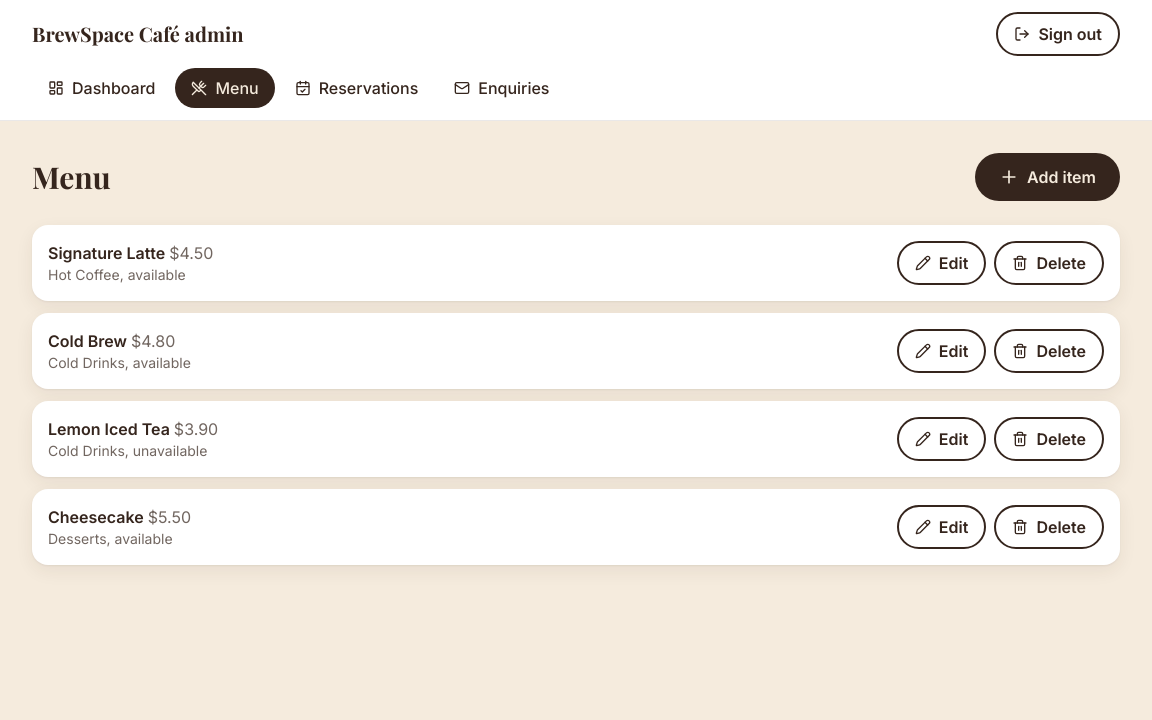
admin menu management › shows an error if delete fails
The image size is (1152, 720).
Click the button with aria-label "Delete Cheesecake". click: (1049, 527)
box: [994,505,1104,549]
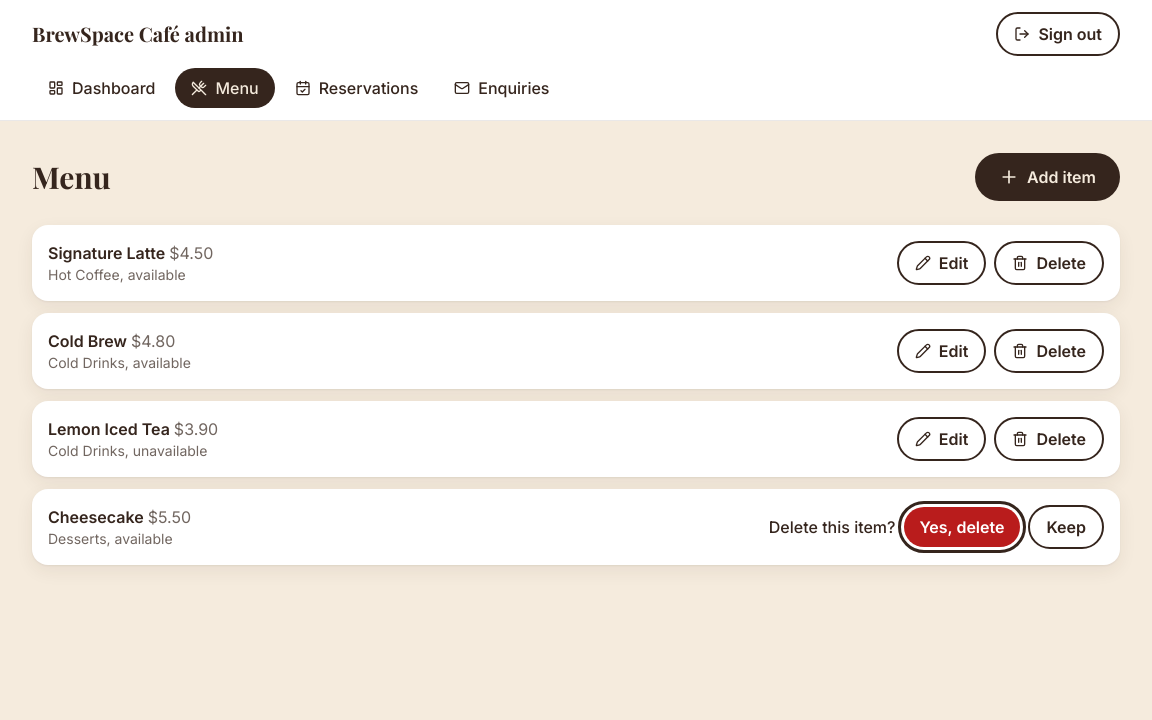
Click the button "Yes, delete". click: (962, 527)
box: [904,507,1020,547]
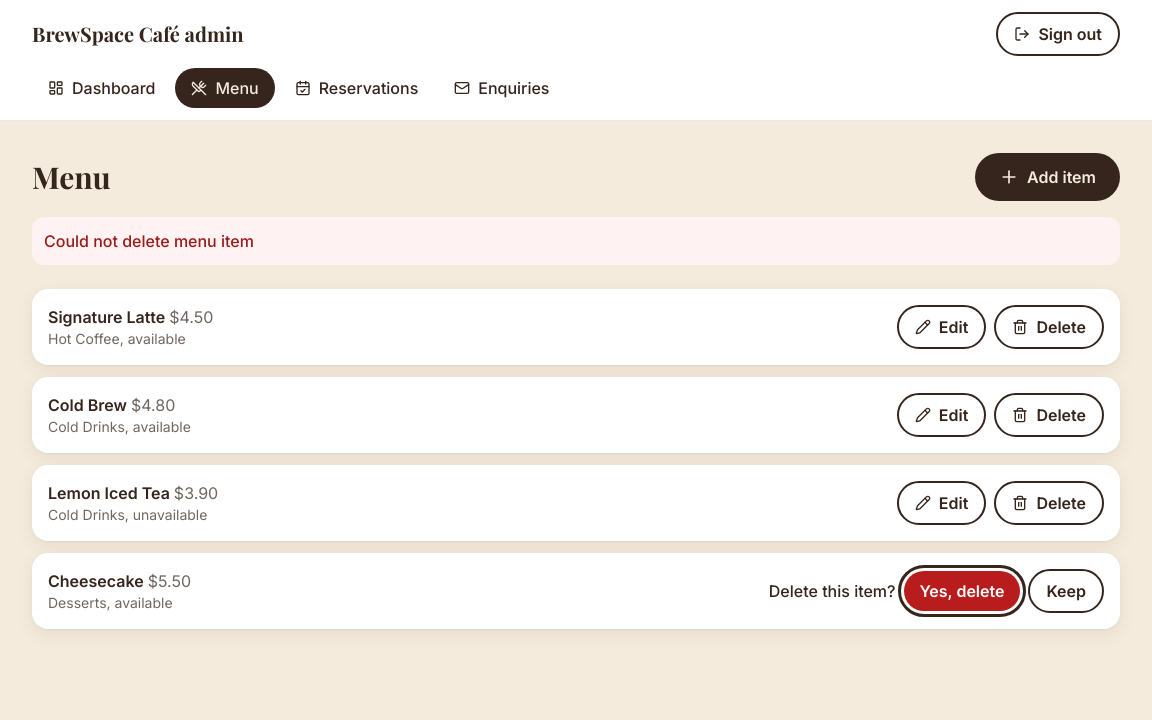
Check: the message reads "Could not delete menu item", box [44,231,254,251]
